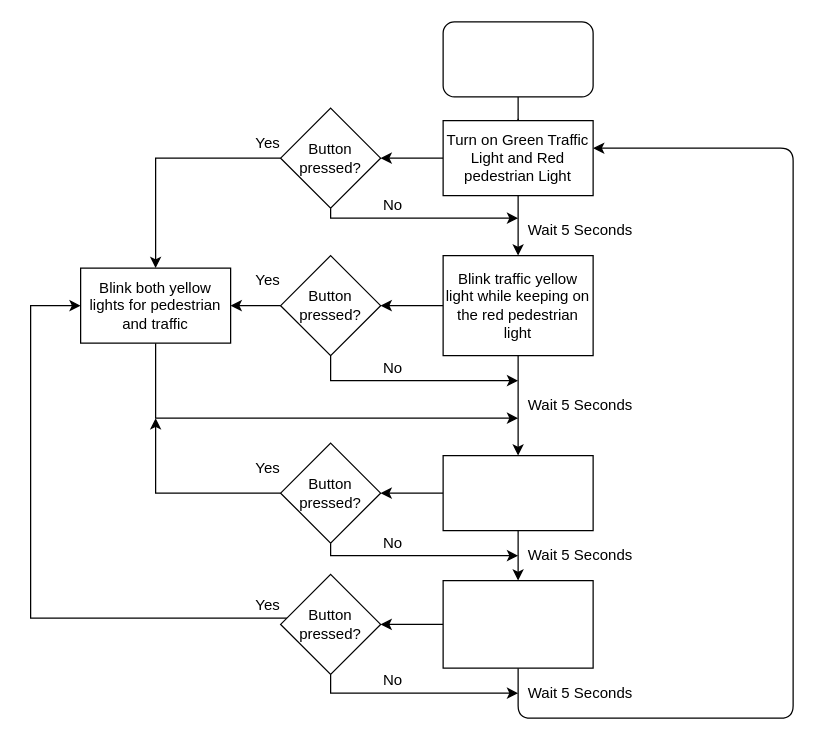
Image size: 825x750. Some labels were removed from this diagram. The box of each missing label's shape, as (x1, y1, x2, y2) in pixels:
Blink the yellow traffic light while keeping on the green pedestrian light: (442, 579, 593, 668)
Program start: (442, 21, 593, 97)
Turn on the green pedestrian light and the red traffic light: (442, 454, 593, 531)
